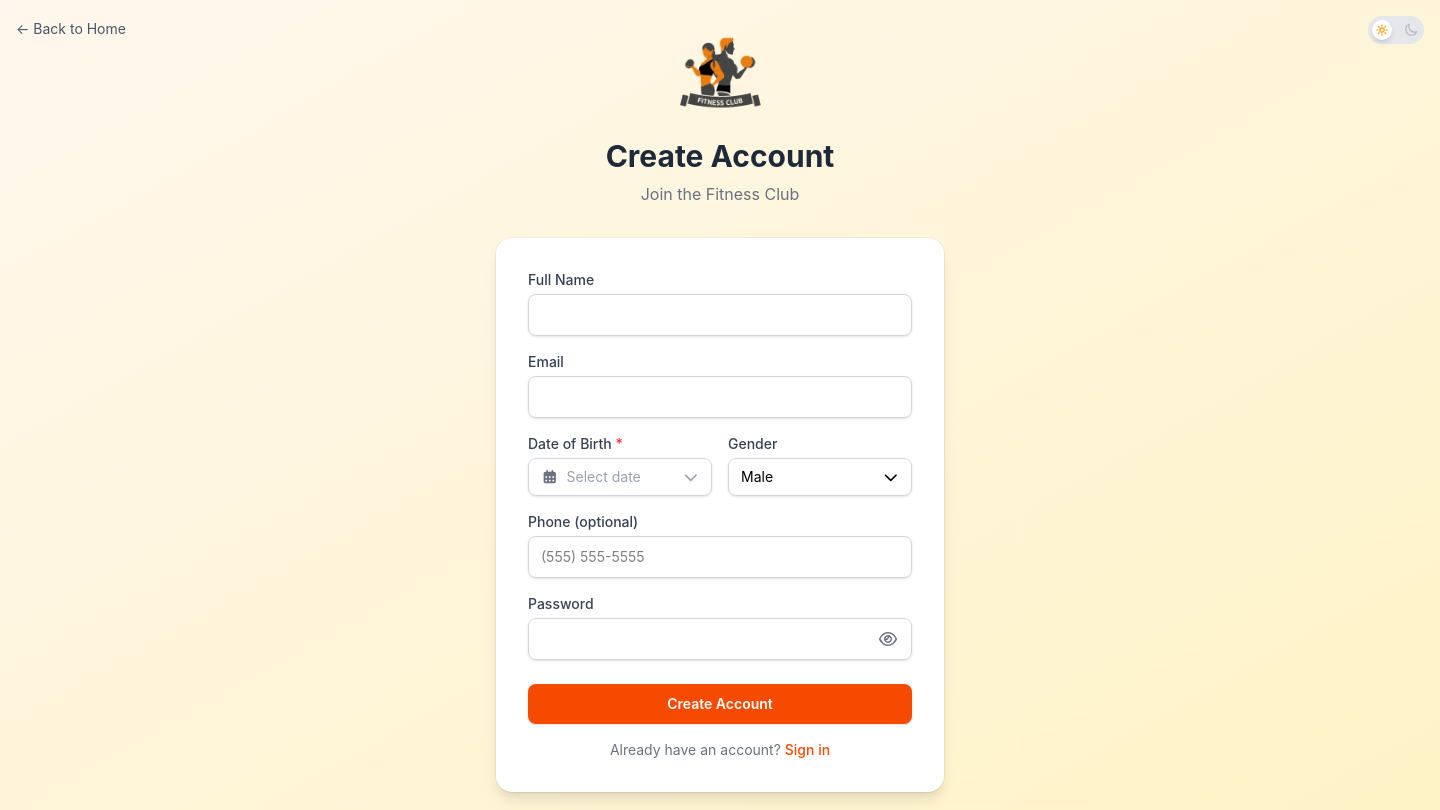
Test: Register page › toggles password visibility show and hide
The image size is (1440, 810).
Click the button named "Show password".
click(888, 639)  # box [874,623,902,655]
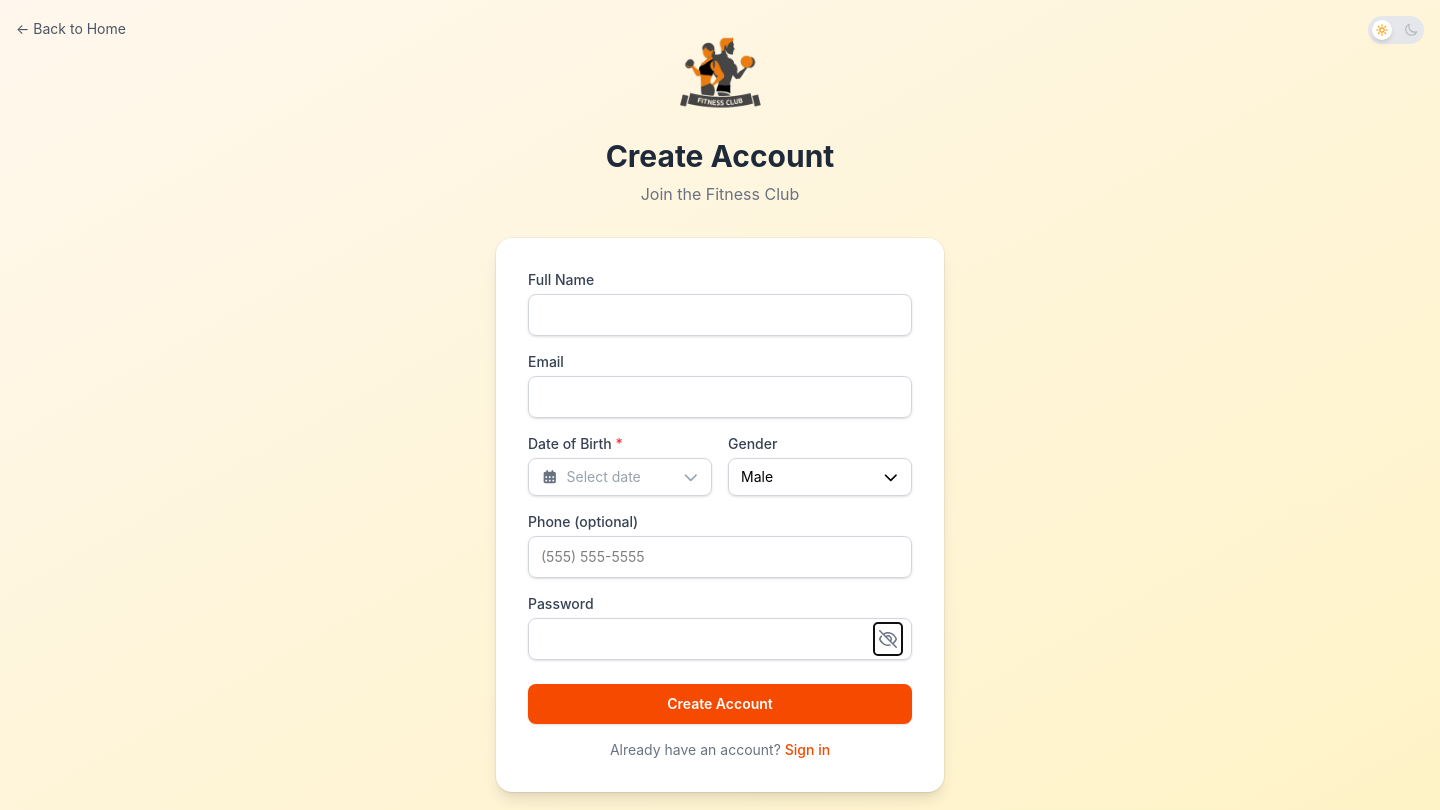
Expected: the button named "Hide password" is shown
Click the button named "Hide password".
click(888, 639)  # box [874,623,902,655]
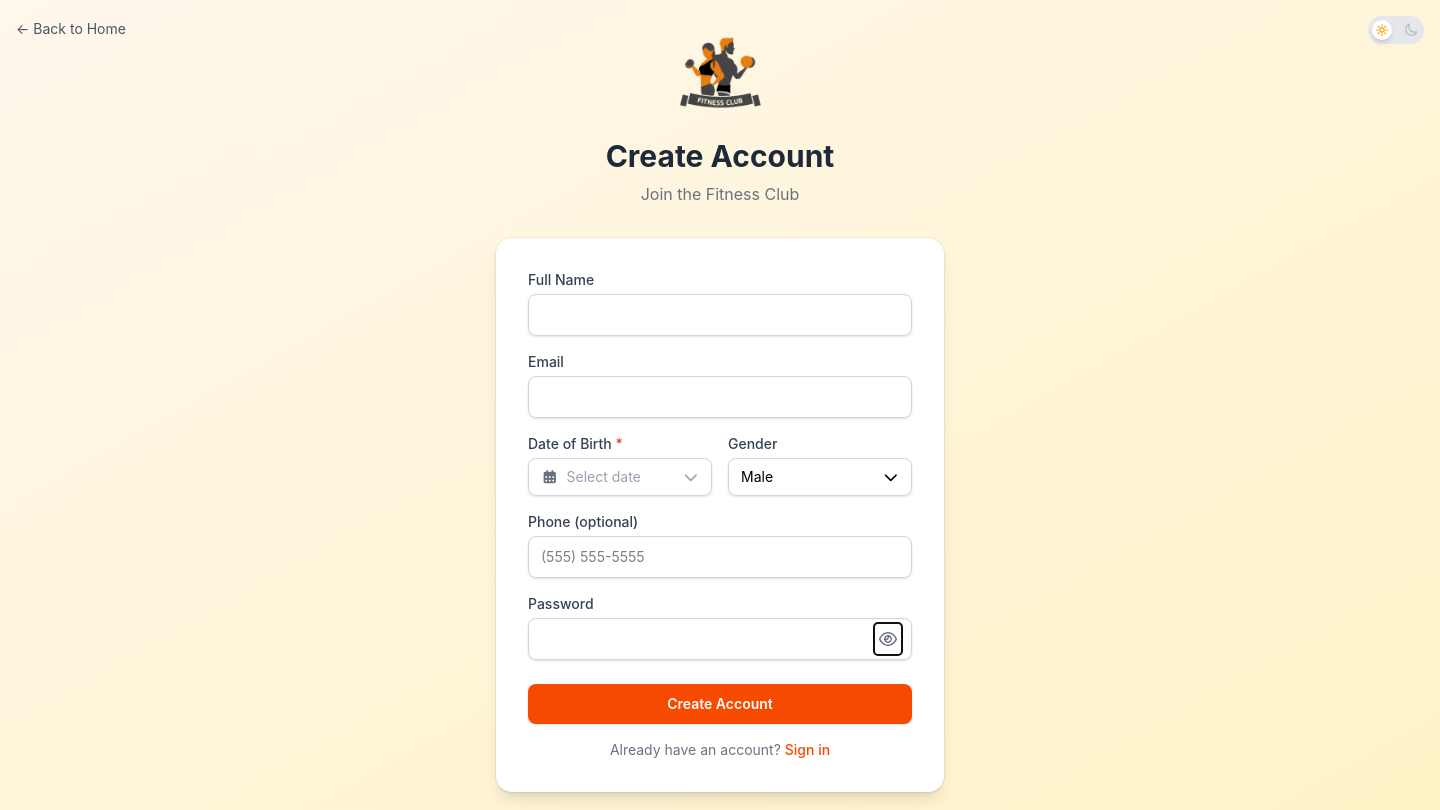
Expected: the password field is shown, [528,618,912,660]
Expected: the button named "Show password" is shown, [874,623,902,655]
